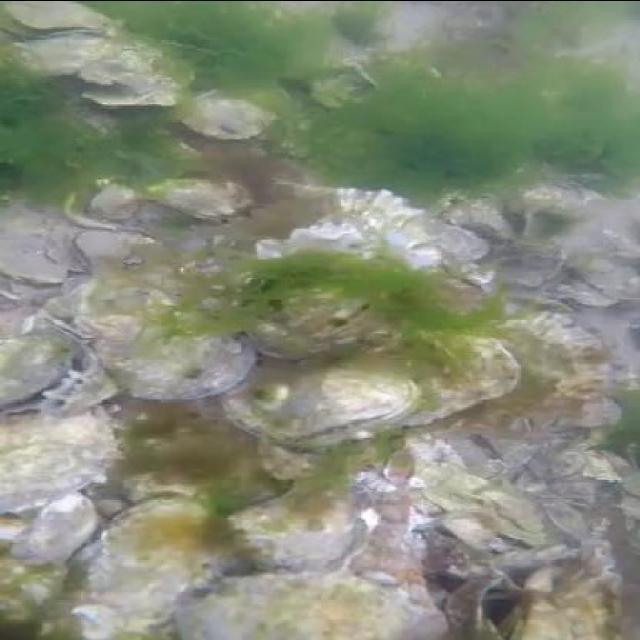Oyster- Indeterminate: (189, 564, 441, 640), (231, 361, 424, 450), (68, 504, 216, 606), (246, 251, 378, 357), (0, 388, 134, 490), (116, 306, 248, 408), (374, 335, 536, 418), (234, 492, 368, 568), (25, 26, 158, 96), (178, 89, 276, 163), (11, 491, 104, 559), (0, 327, 69, 408), (3, 0, 122, 45), (154, 174, 256, 224), (0, 558, 72, 626), (472, 488, 545, 546), (552, 447, 640, 495), (370, 442, 468, 483), (429, 509, 493, 566), (523, 182, 609, 219), (440, 192, 514, 234), (432, 469, 498, 515), (540, 395, 629, 429), (82, 181, 152, 224), (126, 466, 202, 504)
Oyster-Open: (69, 229, 166, 279)
